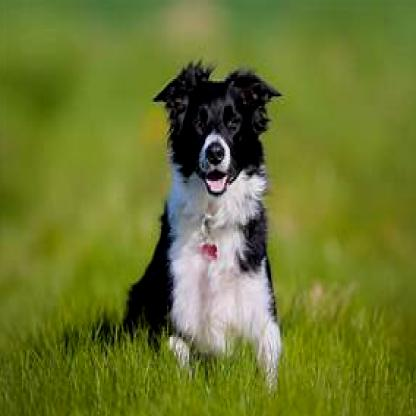dog: (126, 62, 284, 364)
